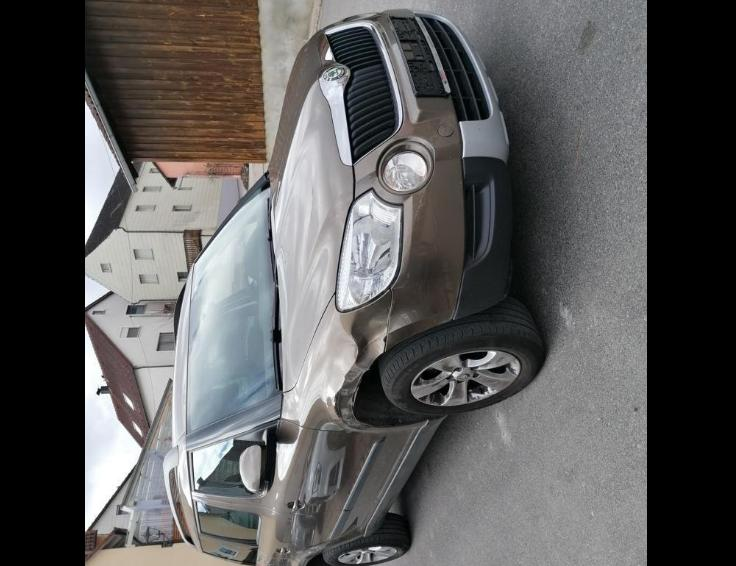Dent: (323, 293, 391, 427), (390, 270, 427, 337)
Missing part: (389, 17, 446, 94)
Scratch: (411, 185, 430, 223)
